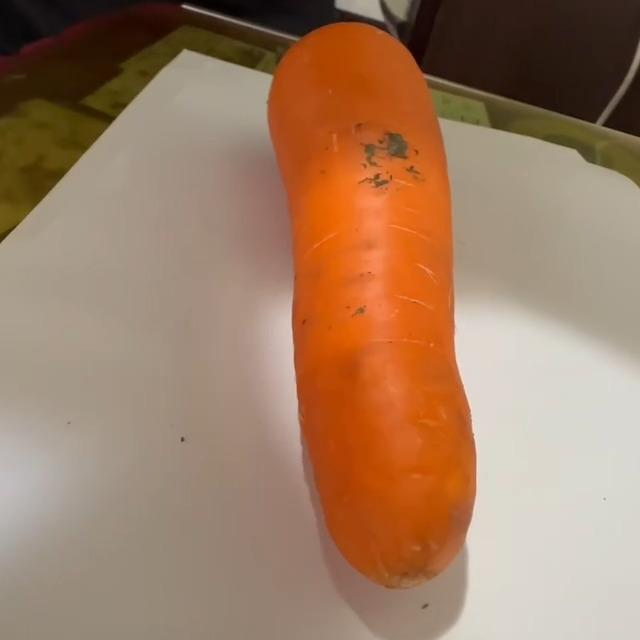carrot: (263, 17, 485, 587)
